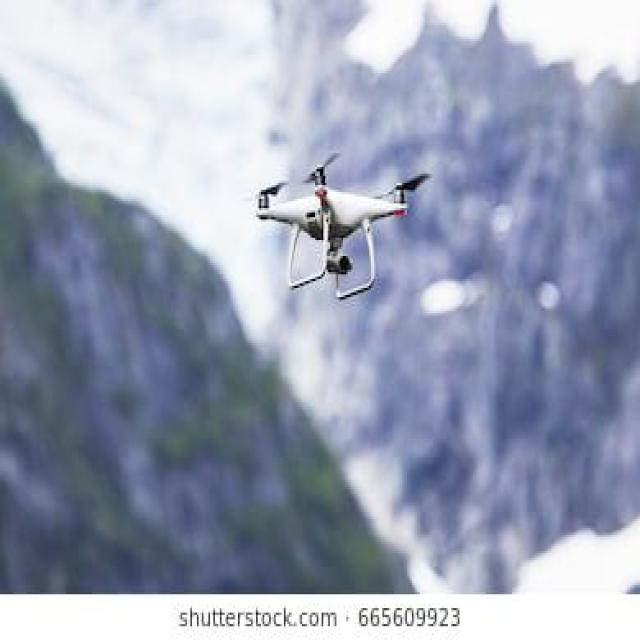drone: (182, 84, 473, 329)
